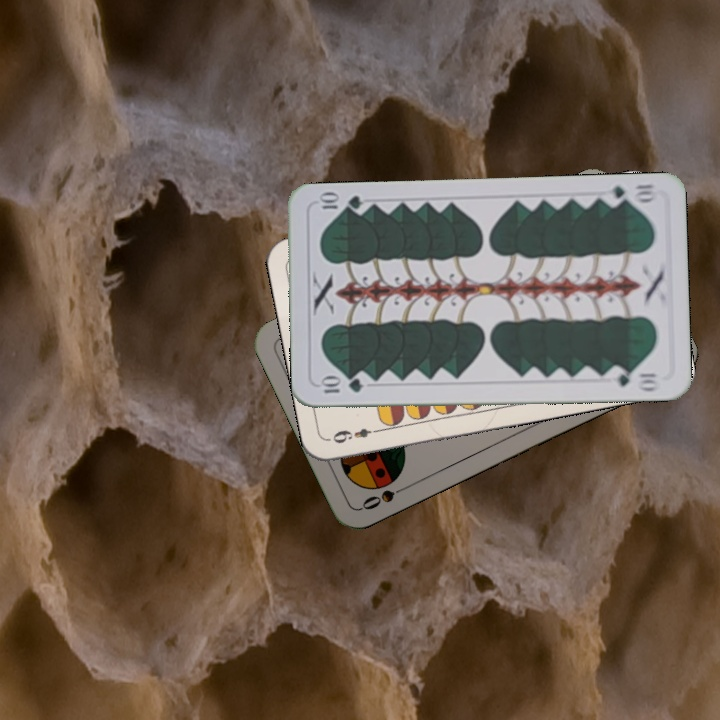E9: (326, 424, 385, 446)
G10: (601, 180, 659, 208), (316, 375, 365, 396)
SO: (357, 481, 413, 513)
